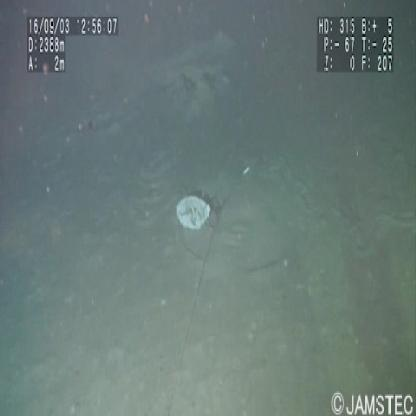Rác: (172, 190, 218, 232)
